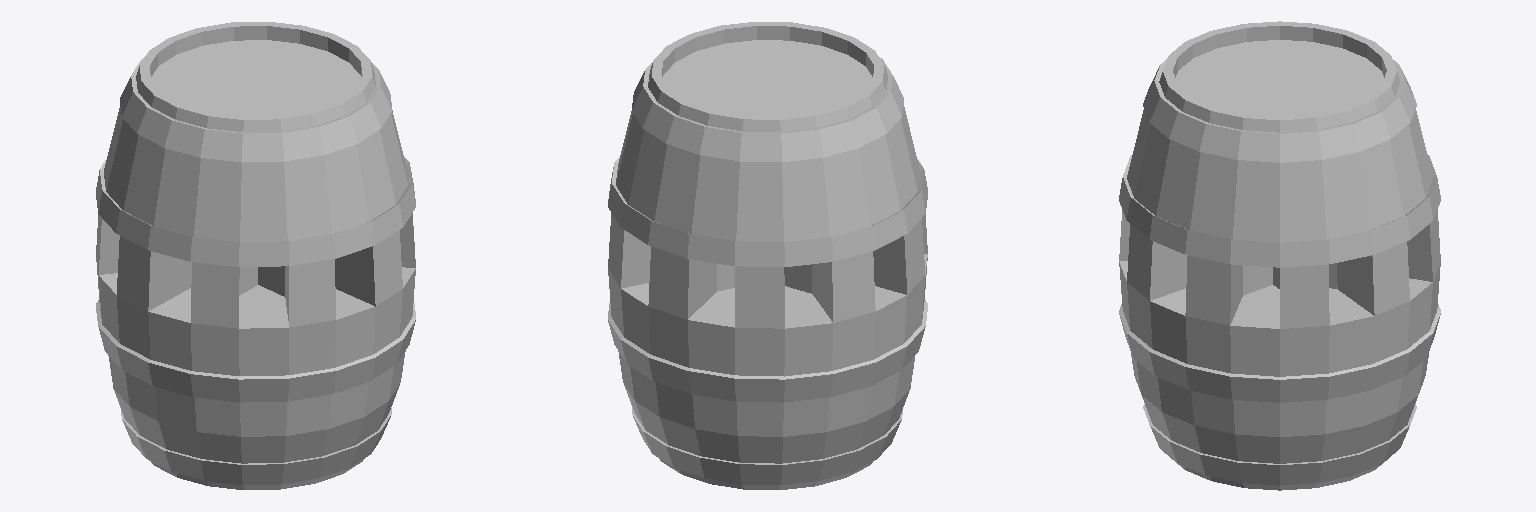
Rendered from barrel_test.obj.
The picture shows the model from 3 angles: view 1: azimuth 30°, elevation 25°; view 2: azimuth 150°, elevation 25°; view 3: azimuth 270°, elevation 25°; orthographic projection.
Bounding box in the file's own units: 1.71 × 2.17 × 1.71.